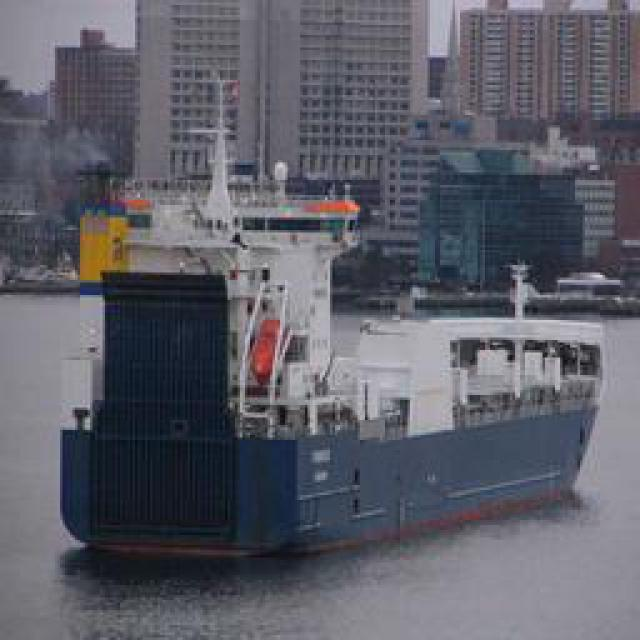Ship: (34, 178, 619, 574)
